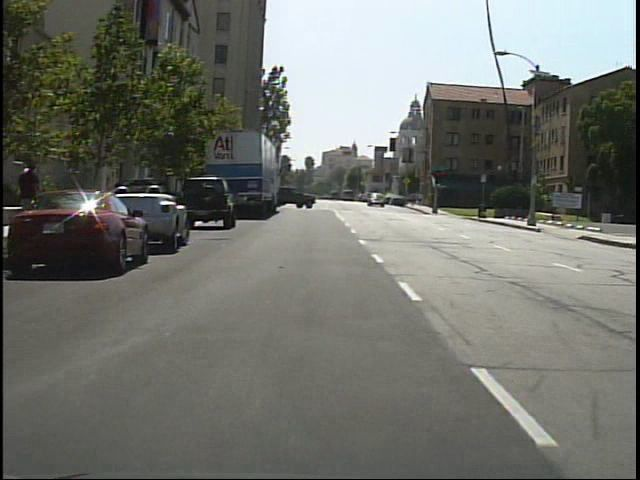person: (17, 160, 47, 241), (18, 166, 47, 226)
